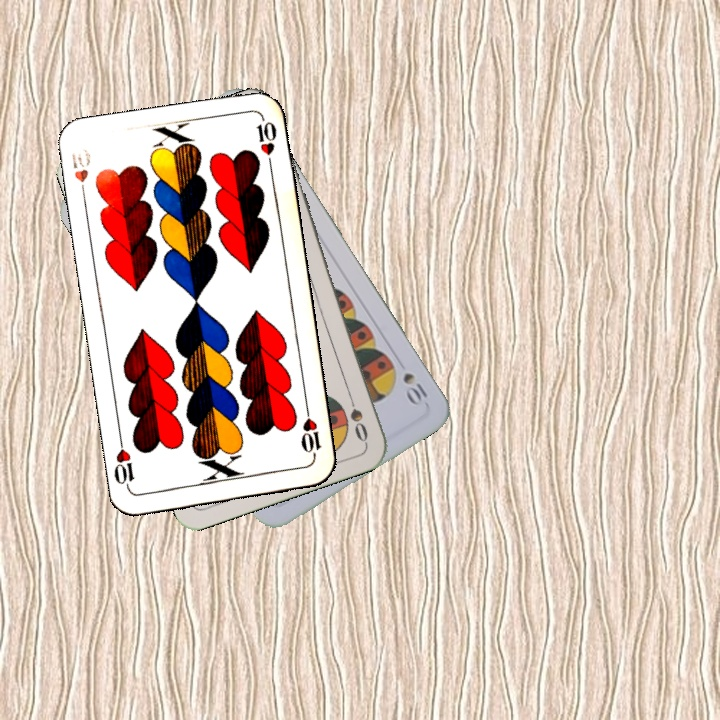H10: (297, 403, 324, 462), (67, 145, 94, 203)
S10: (399, 368, 430, 406)
SO: (343, 387, 371, 445)
